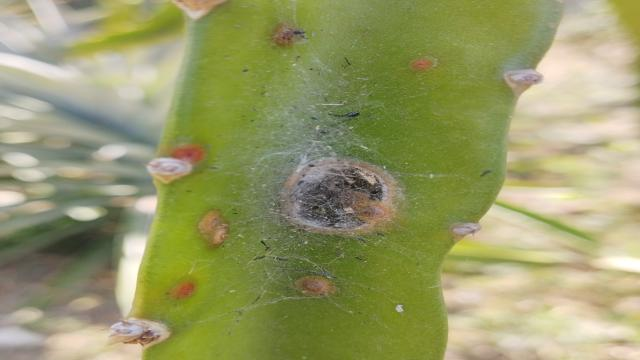stemcanker: (163, 139, 208, 174), (196, 207, 231, 250), (268, 20, 309, 55), (291, 272, 339, 298), (165, 270, 198, 304), (396, 53, 438, 77)
